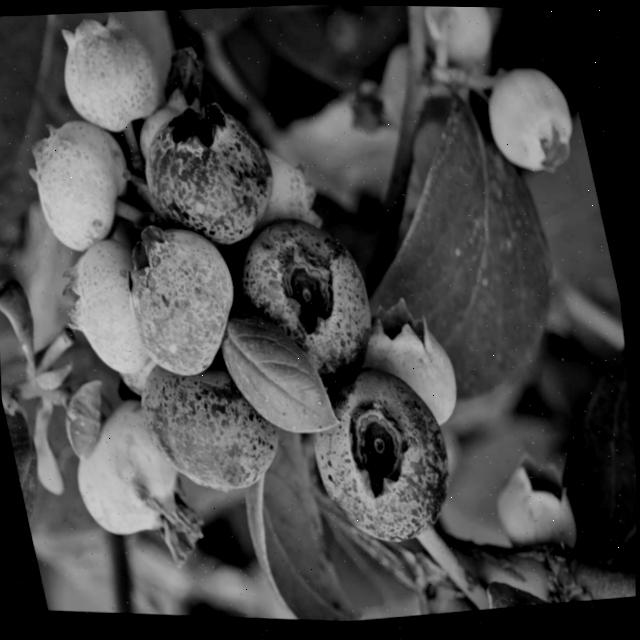RipeBlueBerry: (293, 356, 470, 564), (137, 93, 294, 266), (25, 122, 147, 273)
Semi-RipeBlueBerry: (115, 222, 258, 399)
